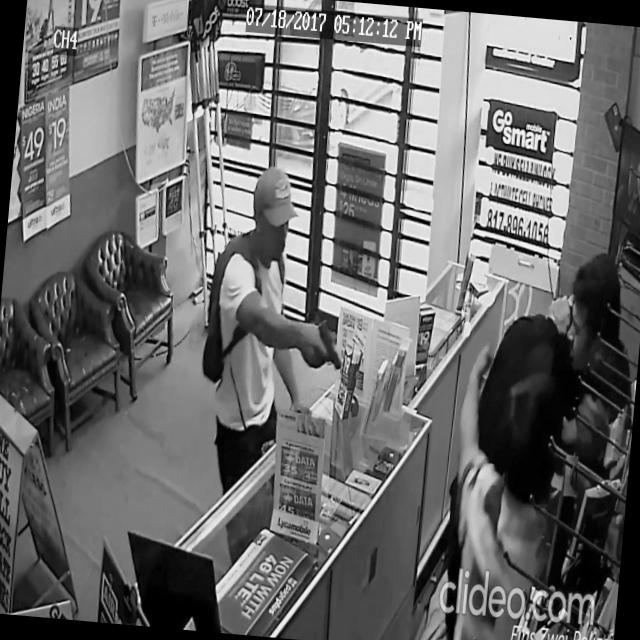gun: (313, 314, 347, 372)
person: (434, 272, 611, 640), (440, 339, 618, 640), (527, 244, 640, 640)
person with a gun: (190, 159, 360, 506)
